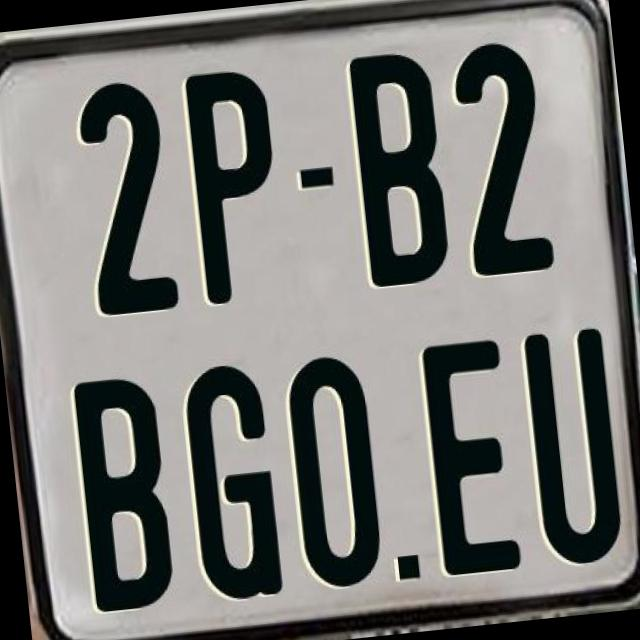0: (280, 353, 384, 600)
2: (448, 34, 559, 276), (72, 78, 180, 324)
B: (71, 370, 181, 610), (344, 46, 452, 286)
E: (420, 334, 526, 570)
G: (178, 358, 282, 604)
P: (184, 64, 295, 306)
U: (520, 324, 632, 572)
